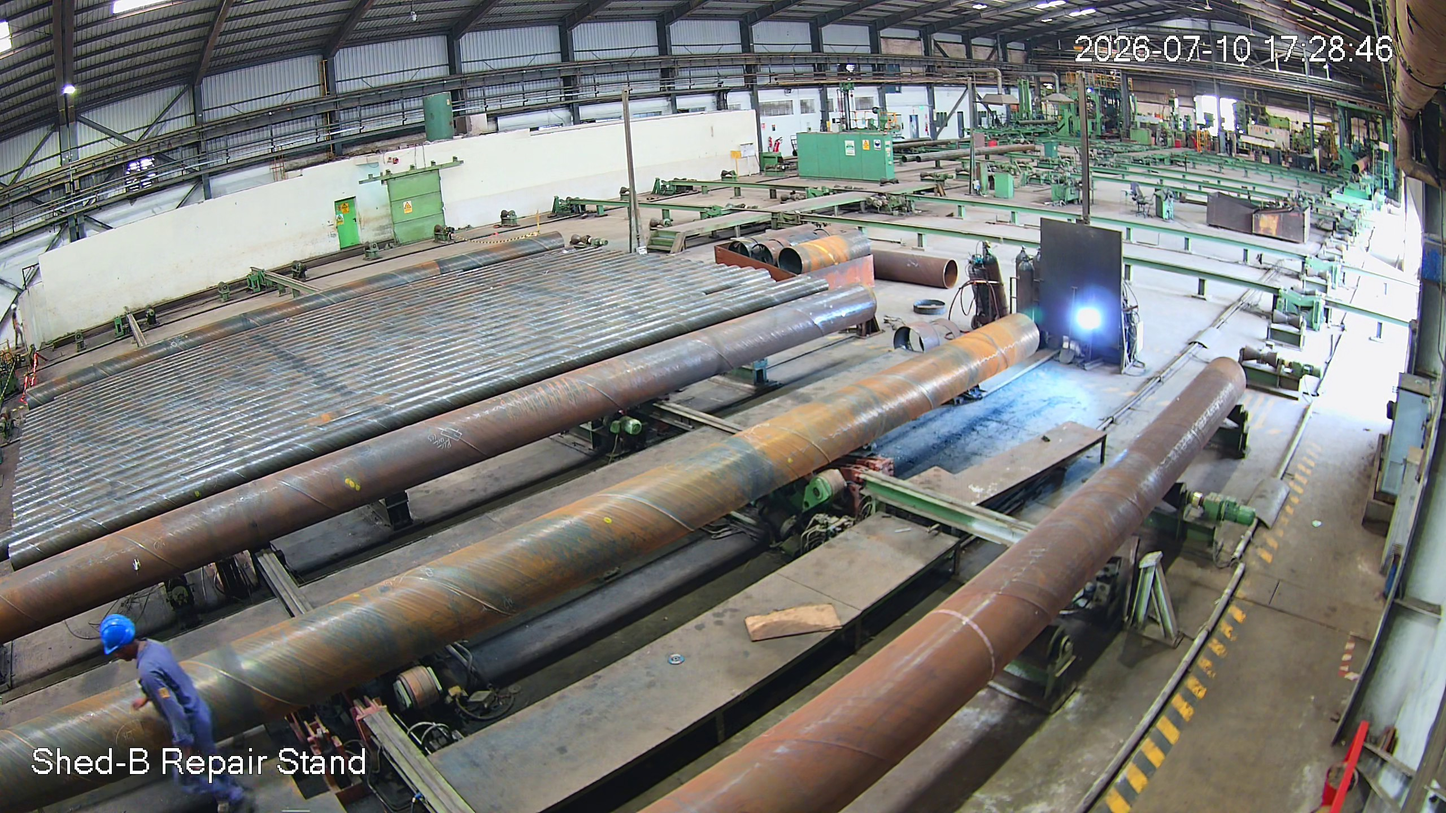Helmet: (96, 611, 165, 680)
Person: (103, 608, 248, 813)
